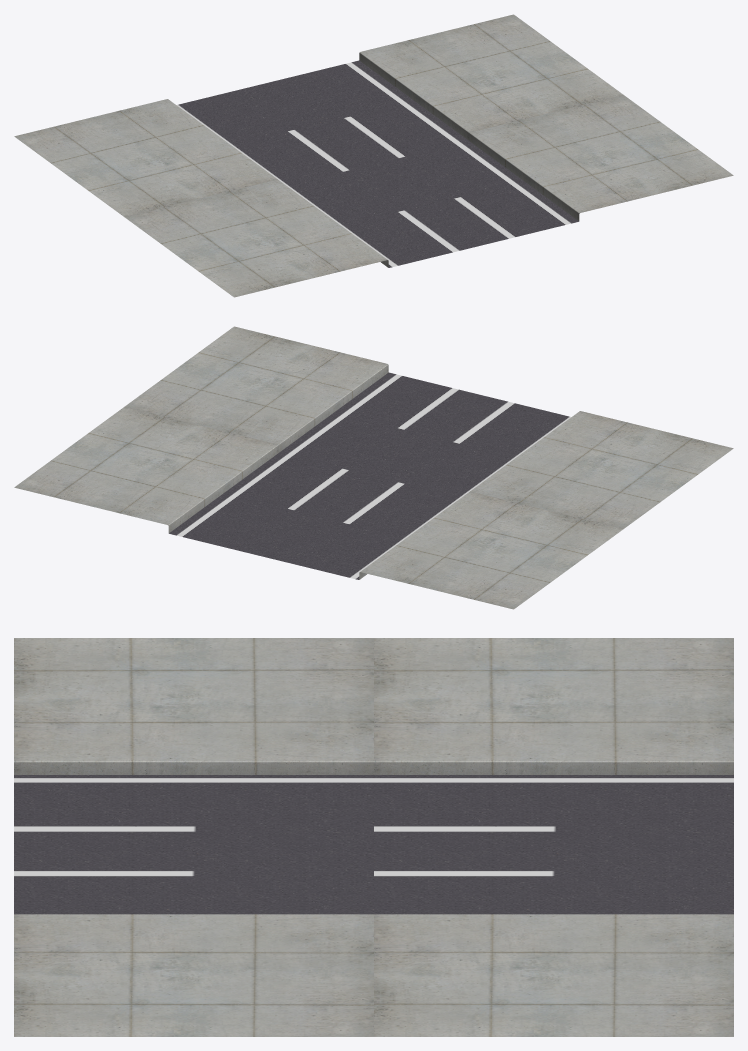
Rendered from Street_Final.fbx.
3 renders of one model, top to bottom at view 1: azimuth 30°, elevation 25°; view 2: azimuth 150°, elevation 25°; view 3: azimuth 270°, elevation 25°, orthographic. The views are drawn at different scales.
Parts seen in each view (by area): view 1: SIdewalk5, SIdewalk4; view 2: SIdewalk4, SIdewalk5; view 3: SIdewalk4, SIdewalk5.
Boxes of the visible parts, x1,y1,x2,y2 form: SIdewalk5: (124,95,733,297); SIdewalk4: (14,14,623,216); SIdewalk4: (14,407,623,609); SIdewalk5: (124,326,733,528); SIdewalk4: (374,638,733,1036); SIdewalk5: (14,638,373,1036).
Bounding box in the file's own units: 979 × 15.58 × 747.
Materials: 2 (2 with a texture image).
